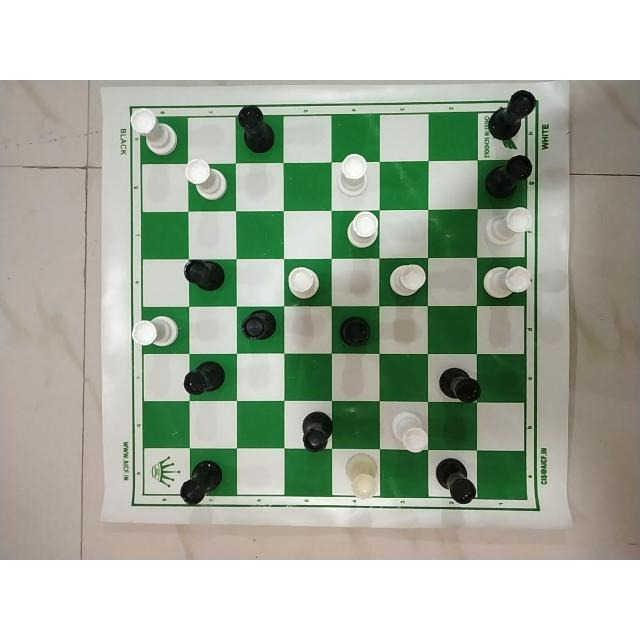black-rook: (488, 87, 538, 147), (176, 455, 227, 507), (432, 456, 480, 504), (237, 102, 277, 158), (486, 153, 536, 197), (436, 360, 484, 405), (295, 408, 337, 452), (179, 259, 227, 295), (182, 361, 230, 397), (237, 307, 279, 343), (335, 312, 373, 347)
white-rook: (128, 106, 180, 158), (386, 409, 433, 457), (482, 205, 533, 247), (182, 158, 231, 201), (339, 454, 383, 501), (481, 260, 533, 299), (130, 314, 183, 348), (385, 262, 429, 302), (336, 153, 371, 197), (344, 211, 383, 249), (284, 268, 323, 300)
